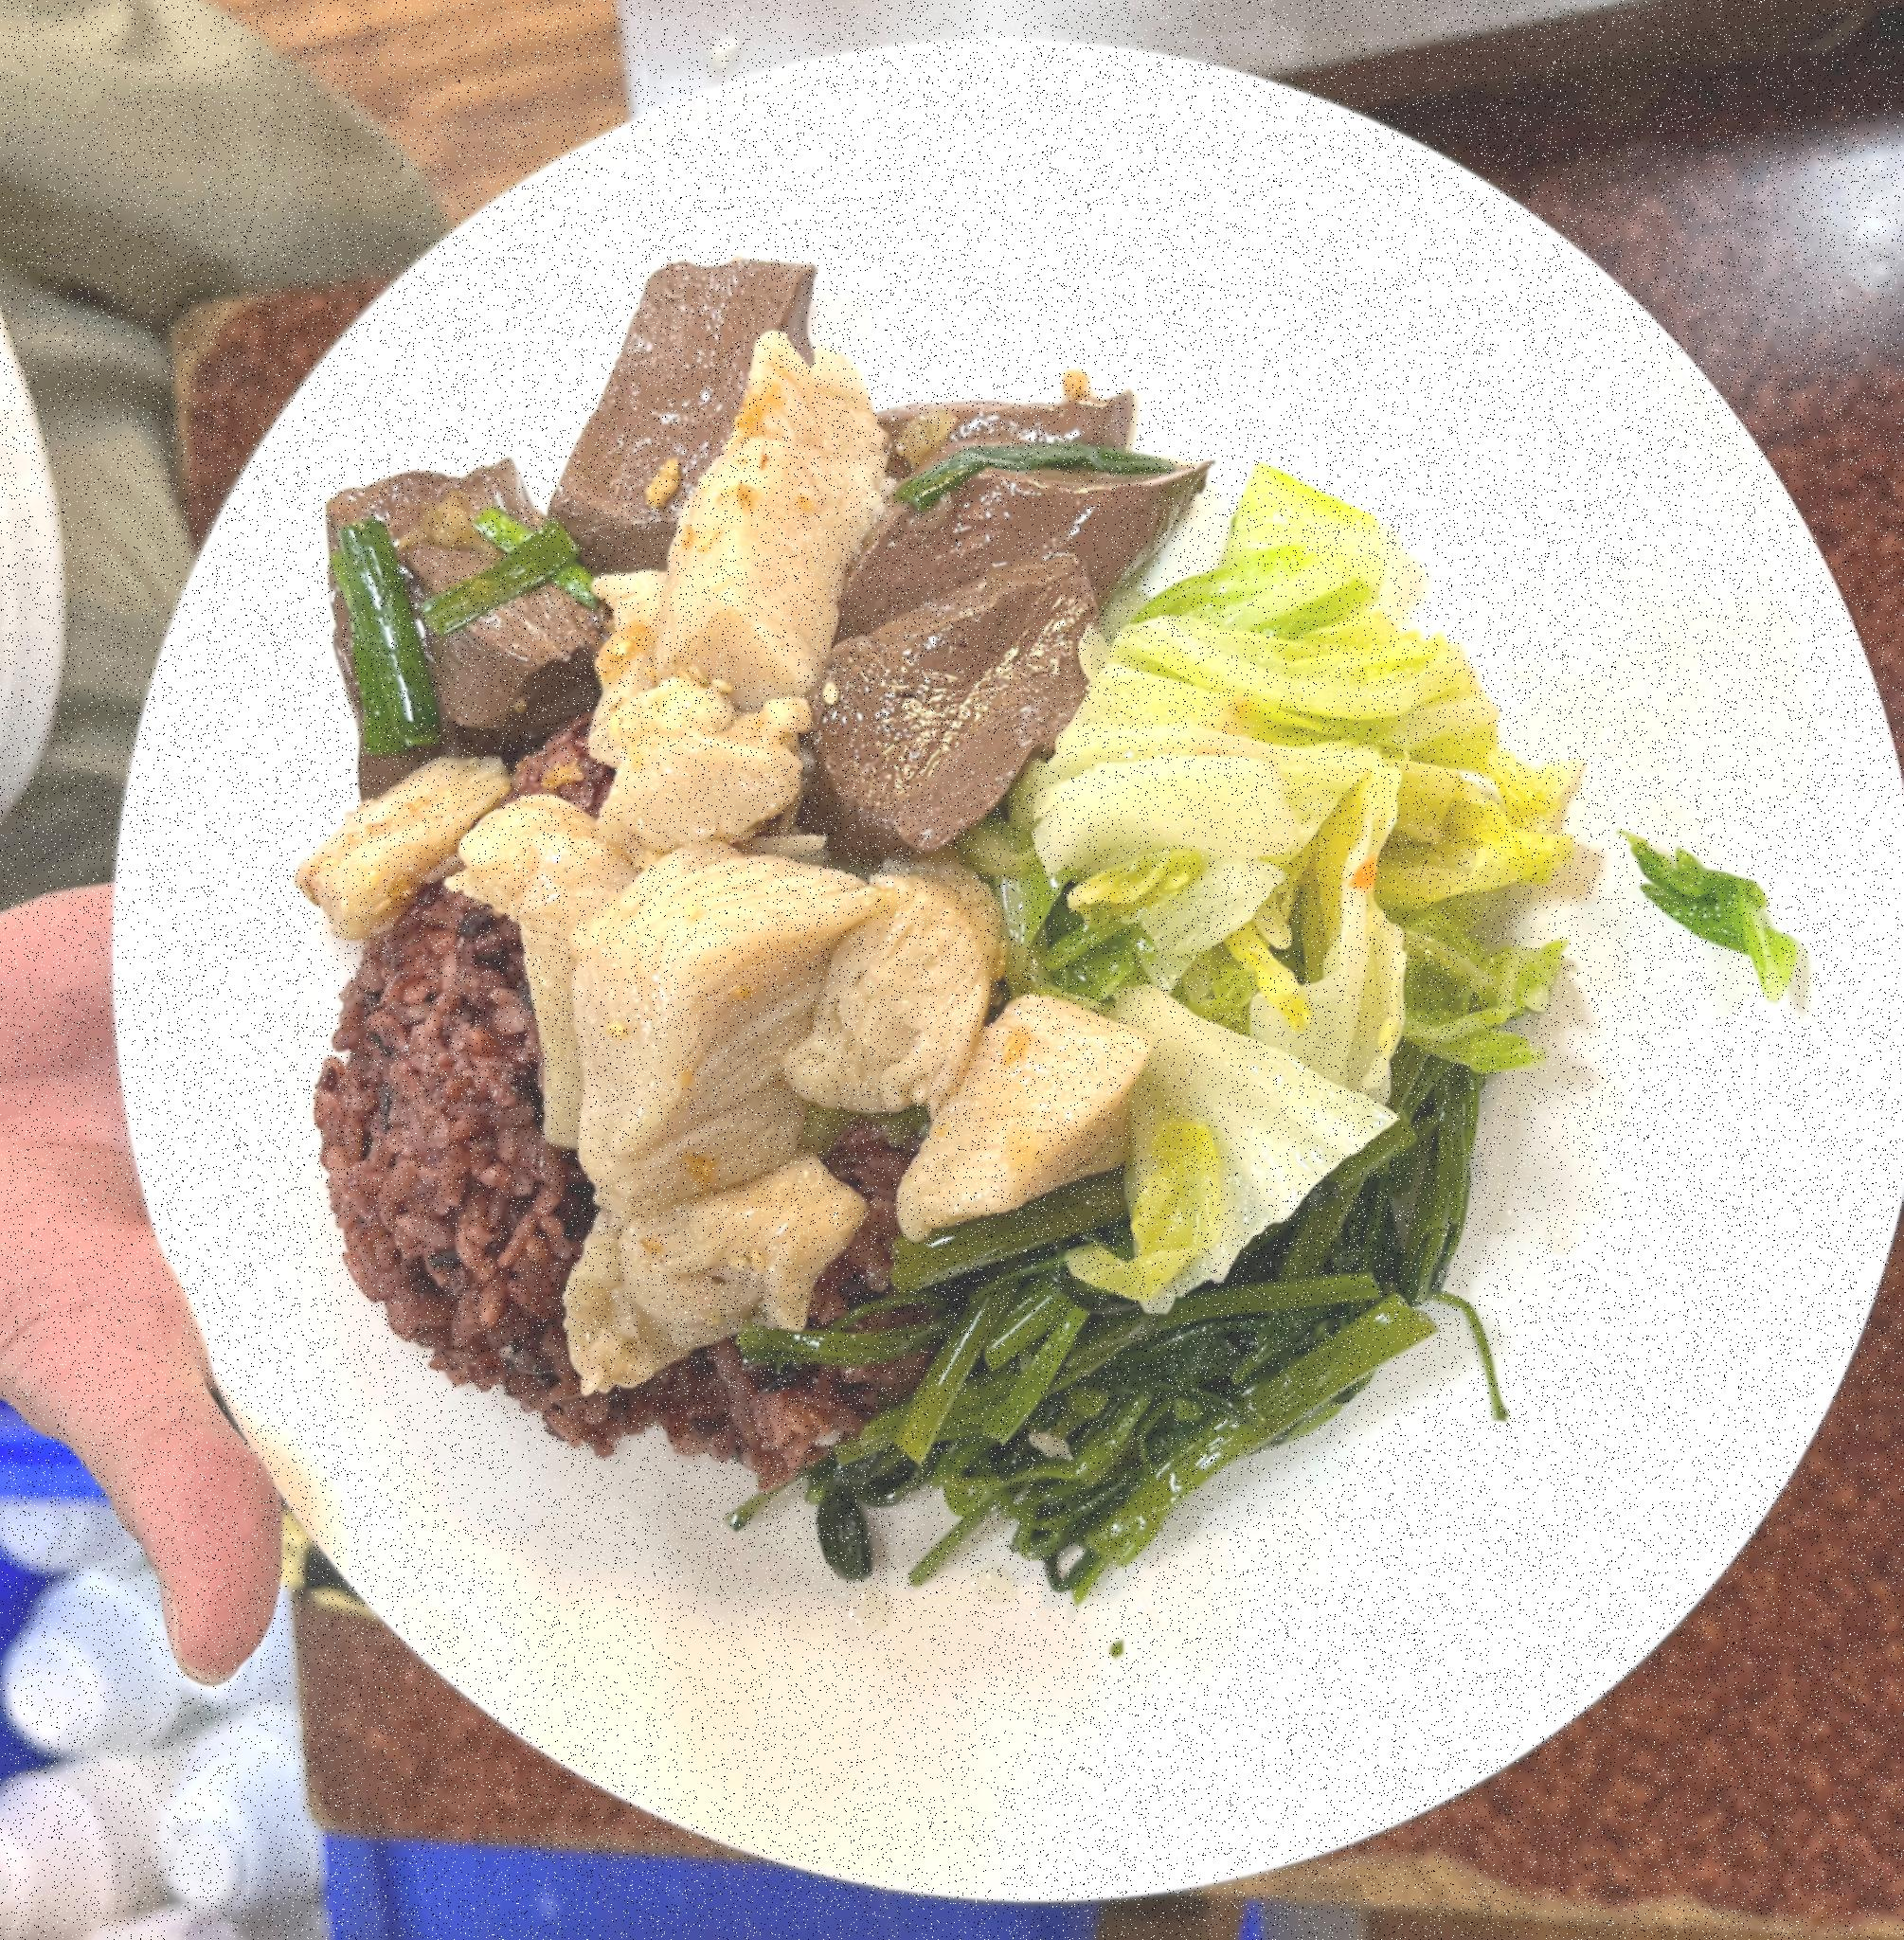plate: (98, 33, 1895, 1928)
purple rice: (303, 790, 1008, 1424)
scallion chicken: (466, 382, 1133, 1396)
side dish: (279, 261, 1165, 831), (999, 505, 1594, 1258), (818, 1060, 1538, 1544)
